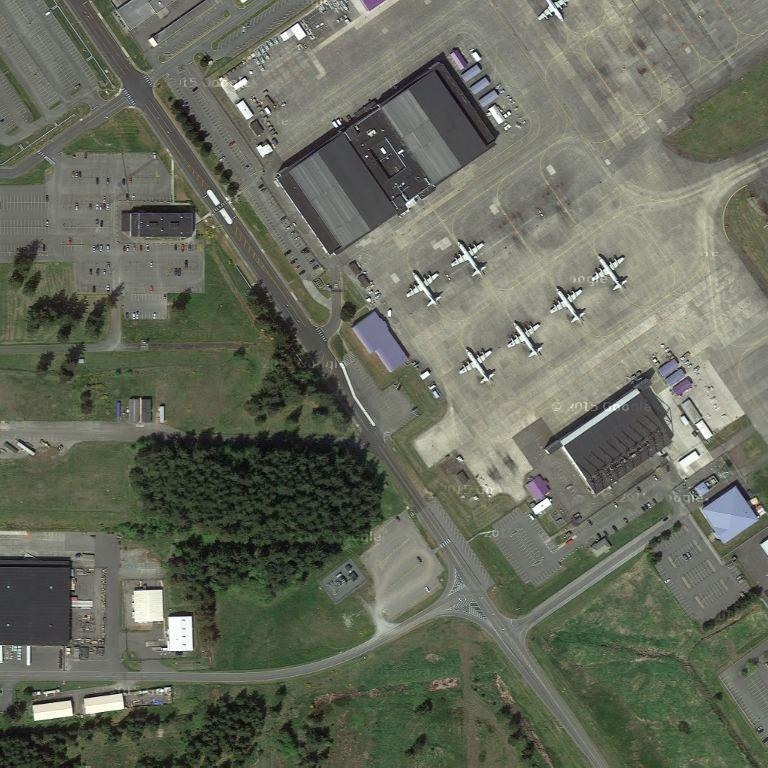P-3C: (448, 237, 493, 282), (503, 318, 549, 361), (457, 345, 502, 386), (404, 267, 446, 310), (546, 285, 590, 324), (592, 250, 632, 292), (532, 2, 570, 25)
